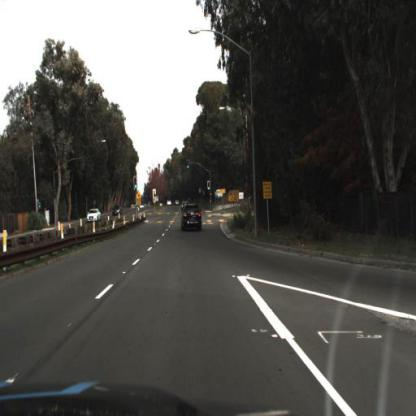car: (179, 202, 204, 234), (108, 199, 124, 221), (85, 206, 102, 224), (111, 205, 127, 221)
trafficLight-Green: (207, 177, 213, 195), (133, 178, 139, 194), (207, 179, 213, 194), (134, 179, 139, 194), (186, 161, 191, 175), (186, 162, 191, 174)
